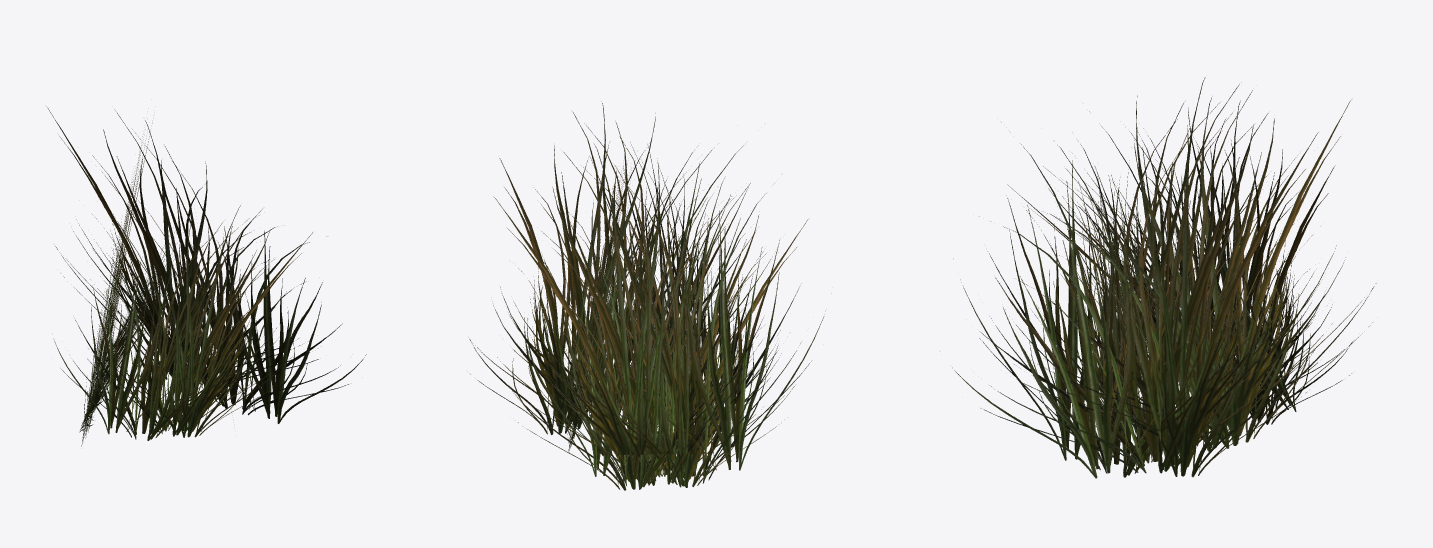
The model's file is StylizedGrass01.fbx.
The picture shows the model from 3 angles, left to right: view 1: azimuth 30°, elevation 25°; view 2: azimuth 150°, elevation 25°; view 3: azimuth 270°, elevation 25°; orthographic projection. The views are drawn at different scales.
Visible parts, largest first — view 1: grass_0; view 2: grass_0; view 3: grass_0.
Part boxes in pixels (x1,y1,x2,y2): grass_0: (46, 106, 366, 446); grass_0: (469, 101, 831, 490); grass_0: (952, 77, 1376, 478).
Size of the model in its own units: 72.41 by 92.25 by 99.73.
1 material, 1 textured.
